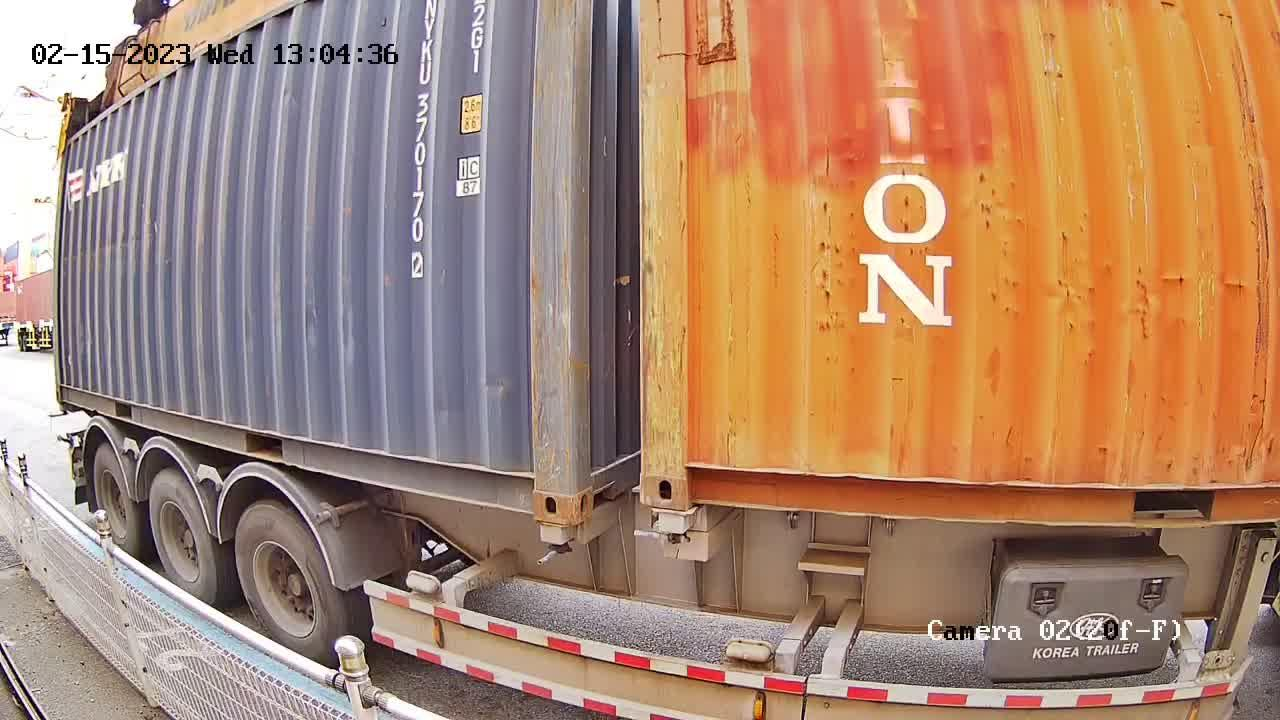Cone: (644, 509, 691, 549), (535, 523, 576, 562)
Hole_L: (642, 438, 741, 507), (571, 435, 625, 525)
Hole_R: (509, 453, 570, 525)
Tire: (233, 508, 341, 661), (148, 474, 217, 599), (91, 446, 136, 546)
